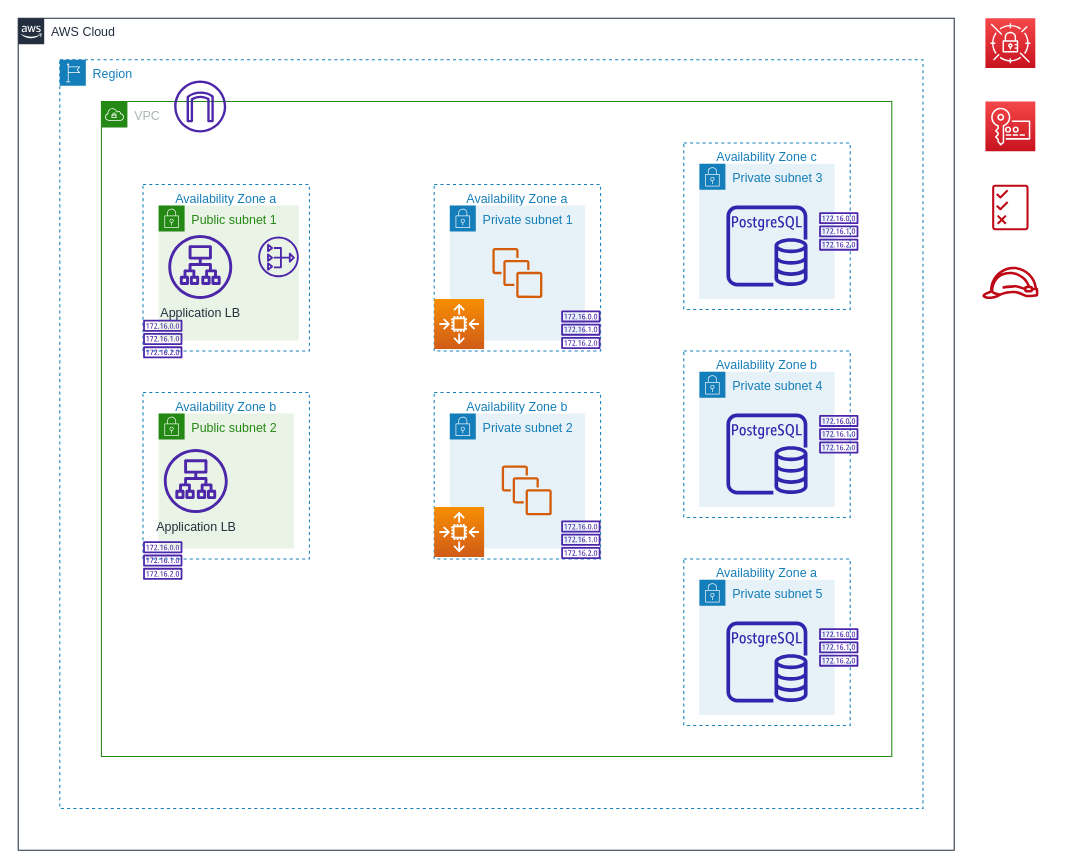
The diagram is 1075 pixels wide and 868 high, and some of its shapes have lost their labels. The centre of each missing label's shape, as x and y in pixels:
DB read replica 1: (x=766, y=453)
DB read replica 2: (x=766, y=661)
EC2 role: (x=1009, y=282)
IAM policies: (x=1010, y=207)
Internet GW: (x=200, y=106)
KMS: (x=1009, y=125)
Master DB instance: (x=766, y=245)
NAT GW: (x=278, y=256)
Secrets Manager: (x=1009, y=42)
